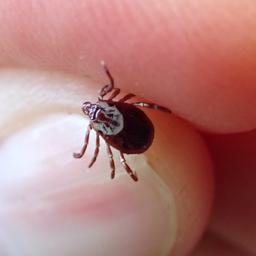Dermacentor variabilis: (73, 63, 173, 181)
